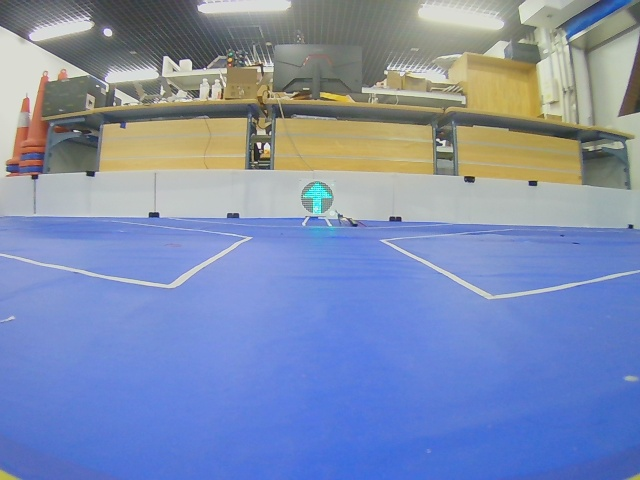straight_green: (300, 181, 334, 215)
